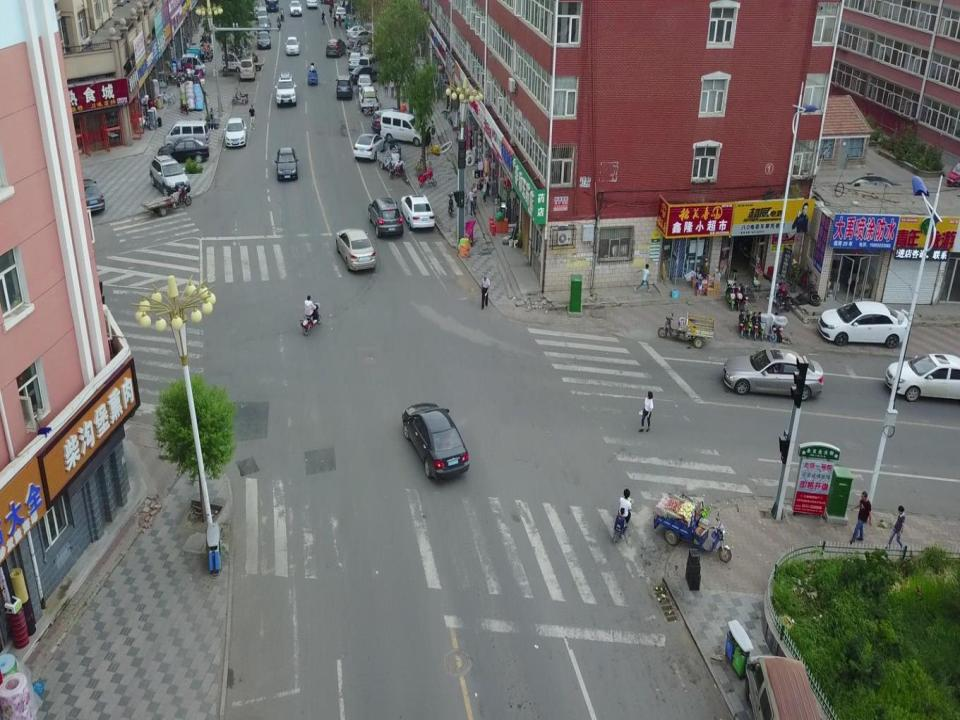car: (721, 348, 824, 403), (402, 401, 470, 482), (816, 300, 913, 349), (885, 354, 960, 403), (335, 228, 376, 272), (150, 154, 191, 195), (156, 136, 209, 164), (368, 197, 404, 237), (400, 194, 436, 230), (370, 108, 416, 136), (73, 177, 106, 214), (273, 147, 299, 181), (353, 134, 385, 160), (274, 72, 297, 106), (224, 117, 248, 146), (349, 65, 381, 84), (358, 87, 380, 111), (348, 29, 375, 46), (325, 38, 346, 57), (284, 36, 300, 56), (356, 74, 372, 92), (346, 26, 370, 38), (256, 30, 271, 49), (348, 52, 362, 70), (256, 18, 272, 33), (289, 0, 302, 16), (335, 6, 347, 20)
van: (380, 110, 426, 146), (163, 120, 211, 150), (335, 74, 354, 100), (240, 55, 256, 82), (359, 54, 379, 74), (257, 4, 268, 24)
